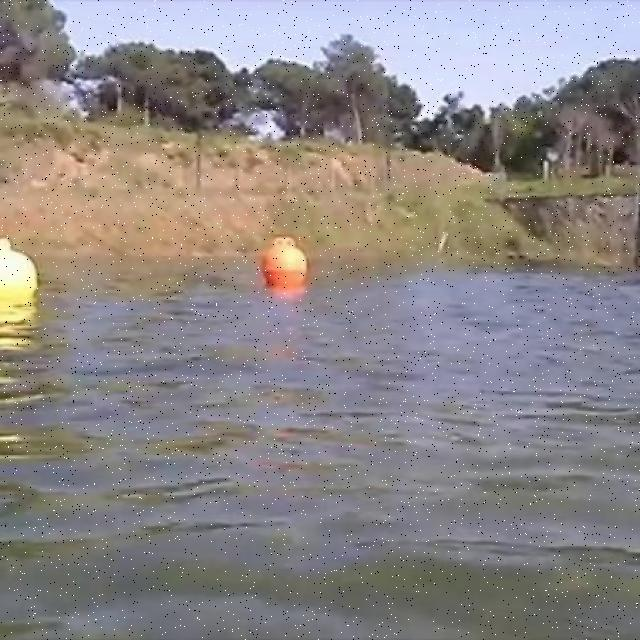buoy: (263, 234, 307, 288), (0, 234, 37, 298)
